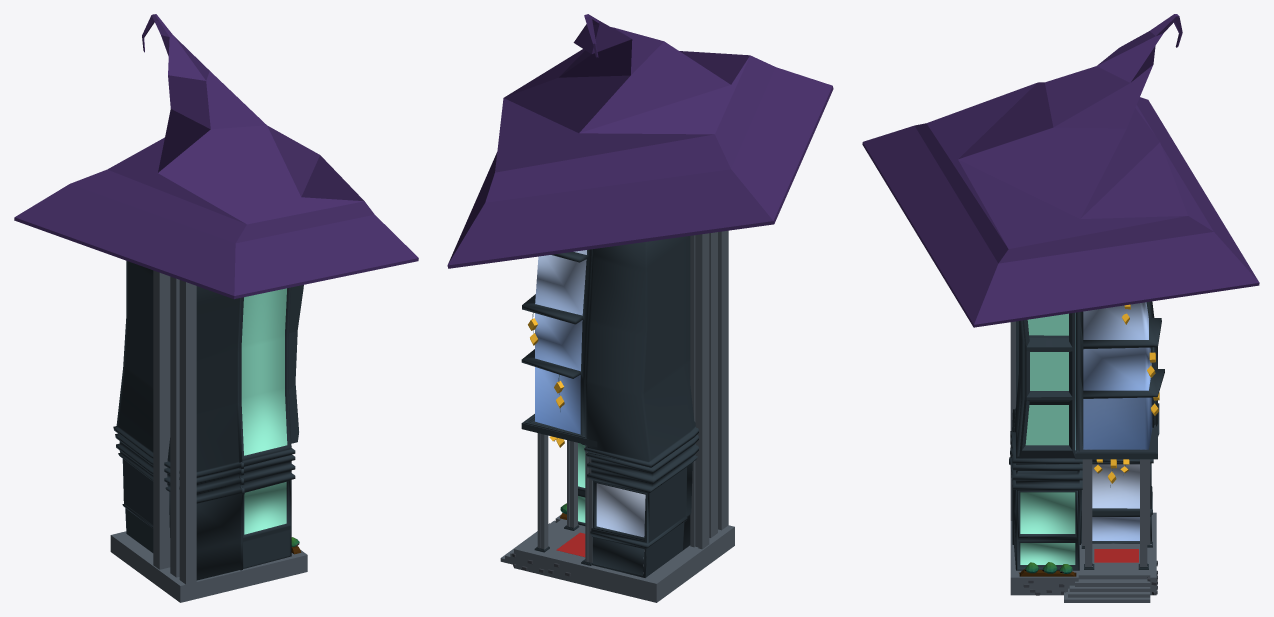
The model's file is WizOfficeHD.fbx.
3 renders of one model, left to right at view 1: azimuth 30°, elevation 25°; view 2: azimuth 150°, elevation 25°; view 3: azimuth 270°, elevation 25°, orthographic. The views are drawn at different scales.
Visible parts, largest first — view 1: OfficeBase; view 2: OfficeBase; view 3: OfficeBase.
Part boxes in pixels (x1,y1,x2,y2): OfficeBase: (14,14,418,602); OfficeBase: (447,14,833,602); OfficeBase: (862,14,1259,602).
Bounding box in the file's own units: 2442 × 3761 × 2492.
